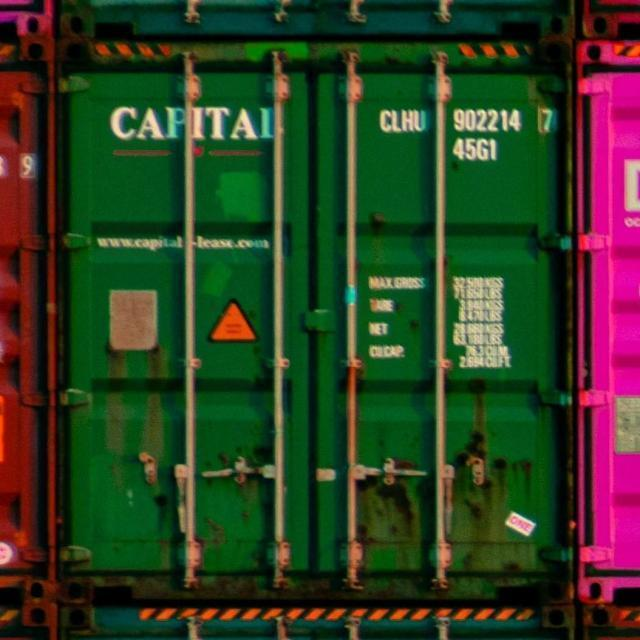ISO: (454, 136, 500, 162)
container_number: (384, 107, 546, 135)
